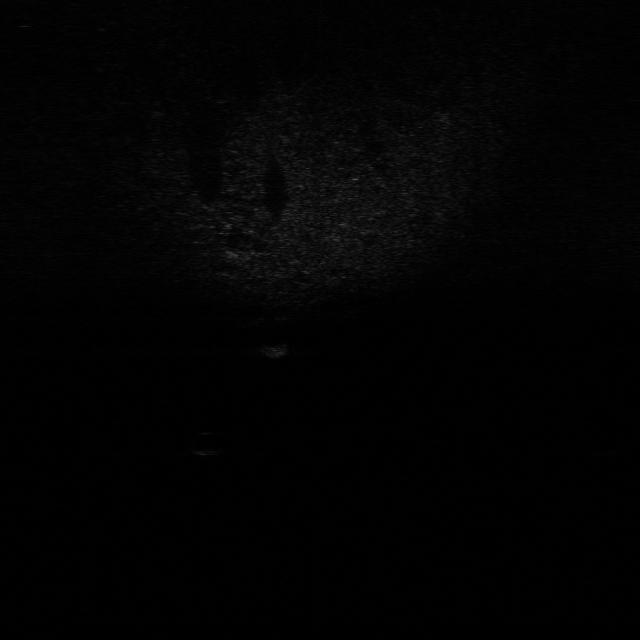ball: (190, 428, 230, 459)
cube: (257, 337, 294, 360)
